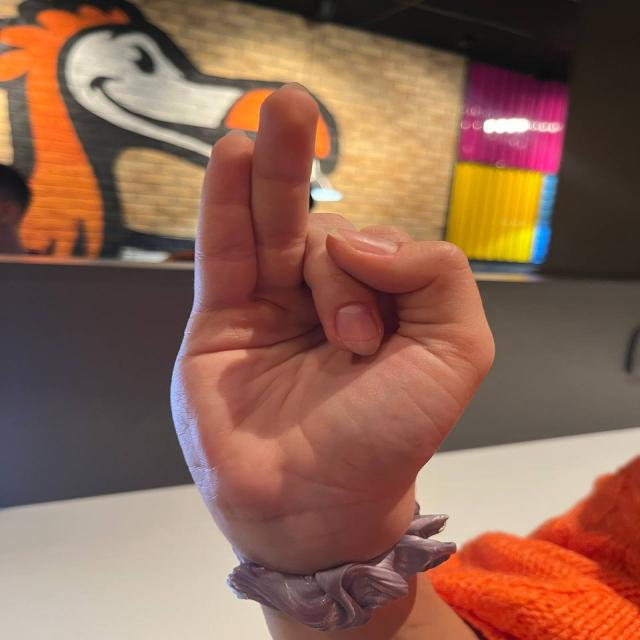i: (189, 68, 489, 520)
